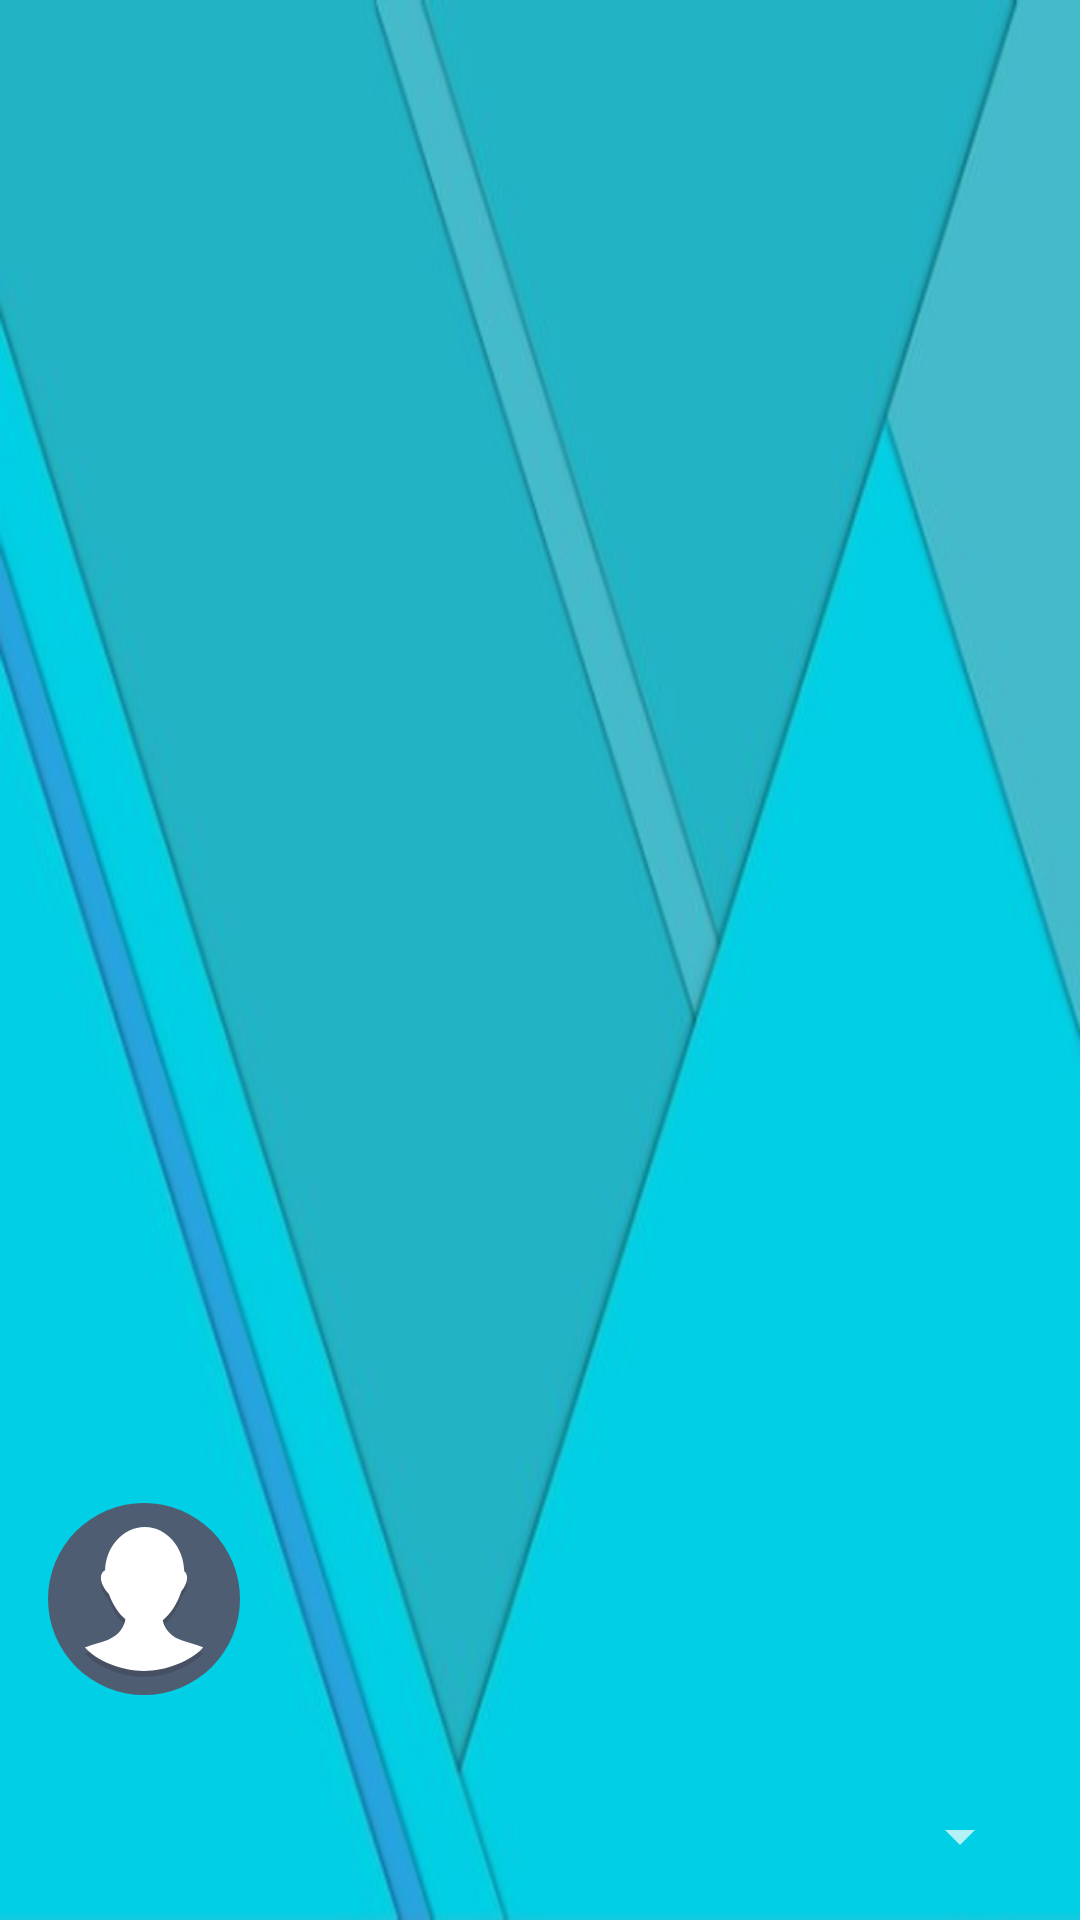

Icon bounding boxes for this 1080 x 1920 phone screenshot, format Rect(x1, y1, x2, y2):
profile: Rect(48, 1503, 240, 1695)
